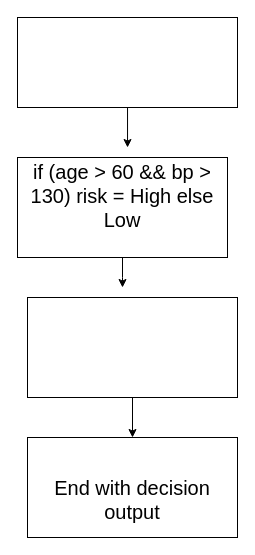
Image size: 255x555. Some labels were removed from this diagram. The centre of each missing label's shape, as x and y in pixels:
Print risk and energy check: the point at 132,347
Start: Set patientAge and bp: the point at 127,62
